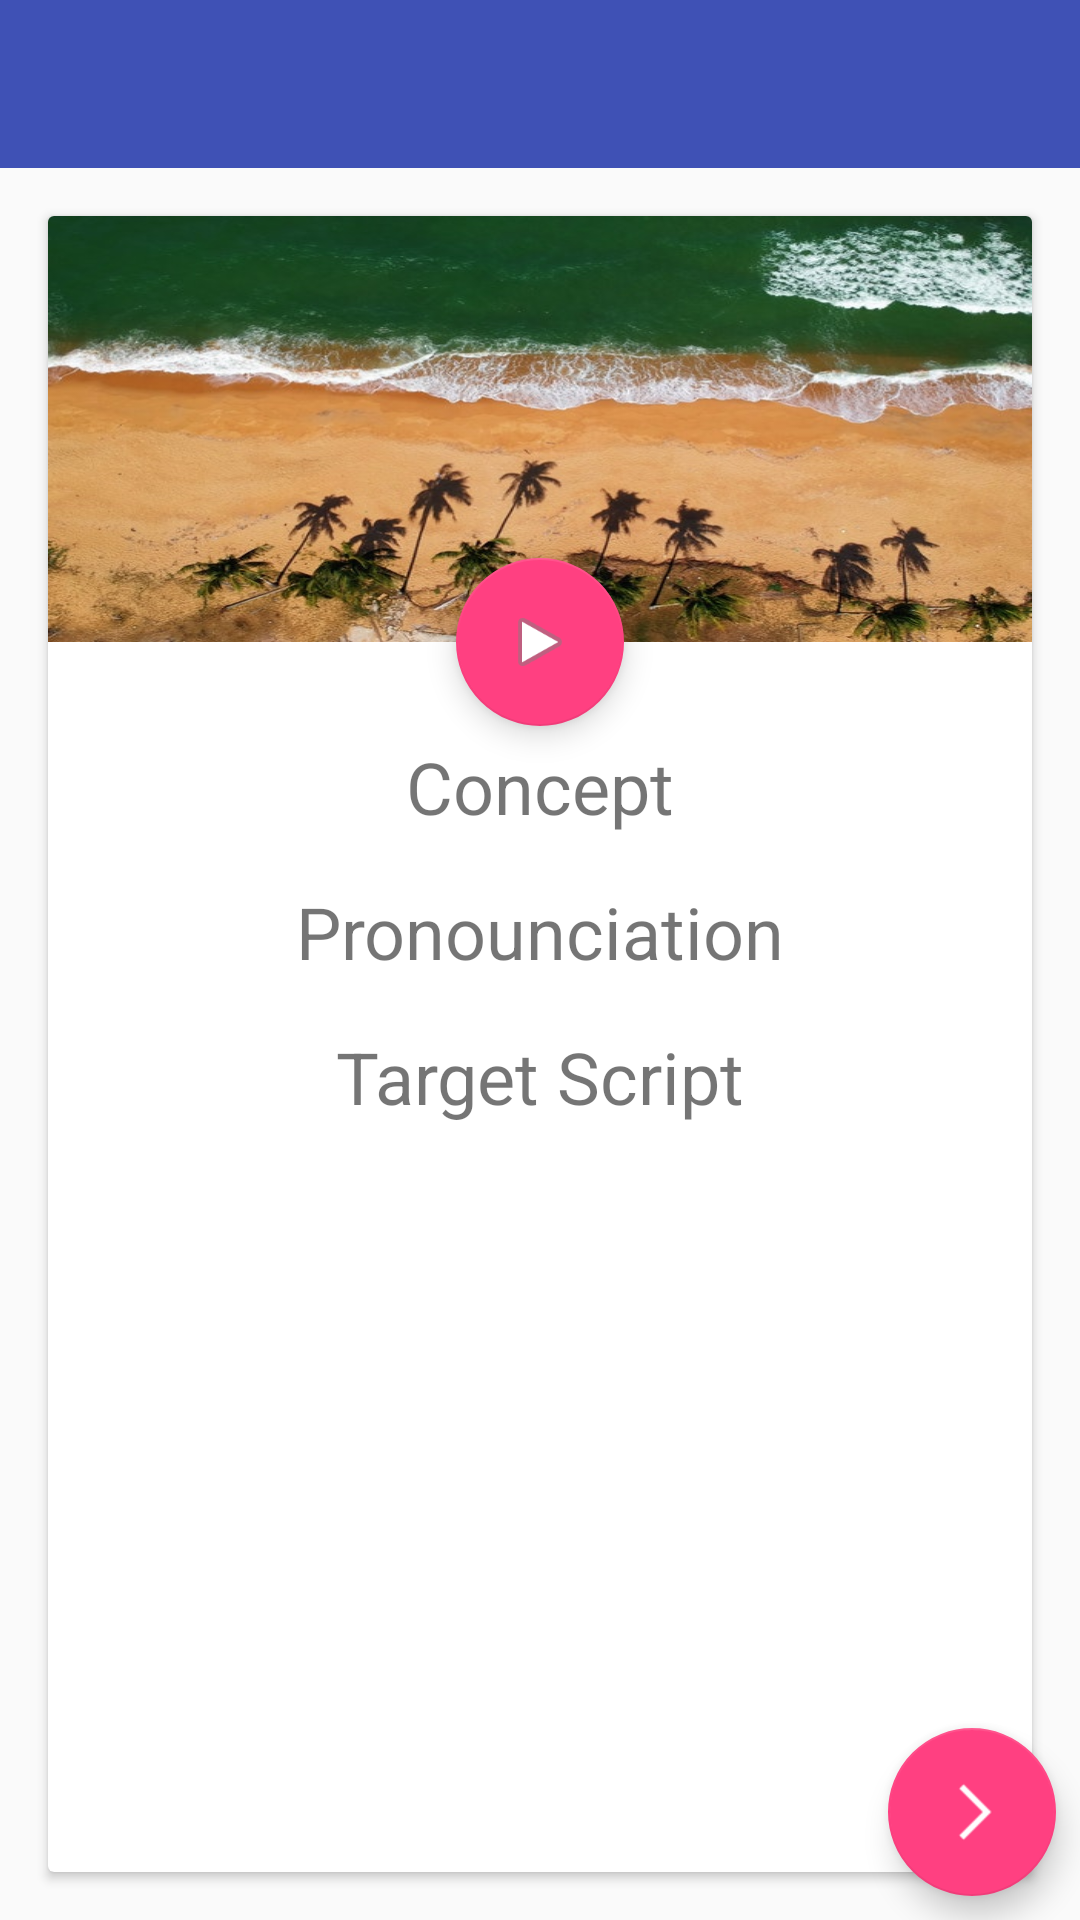

Where to tap for icons on this 1080px x 1920px app screen, as point (x, y):
next: point (972, 1812)
play: point (540, 642)
